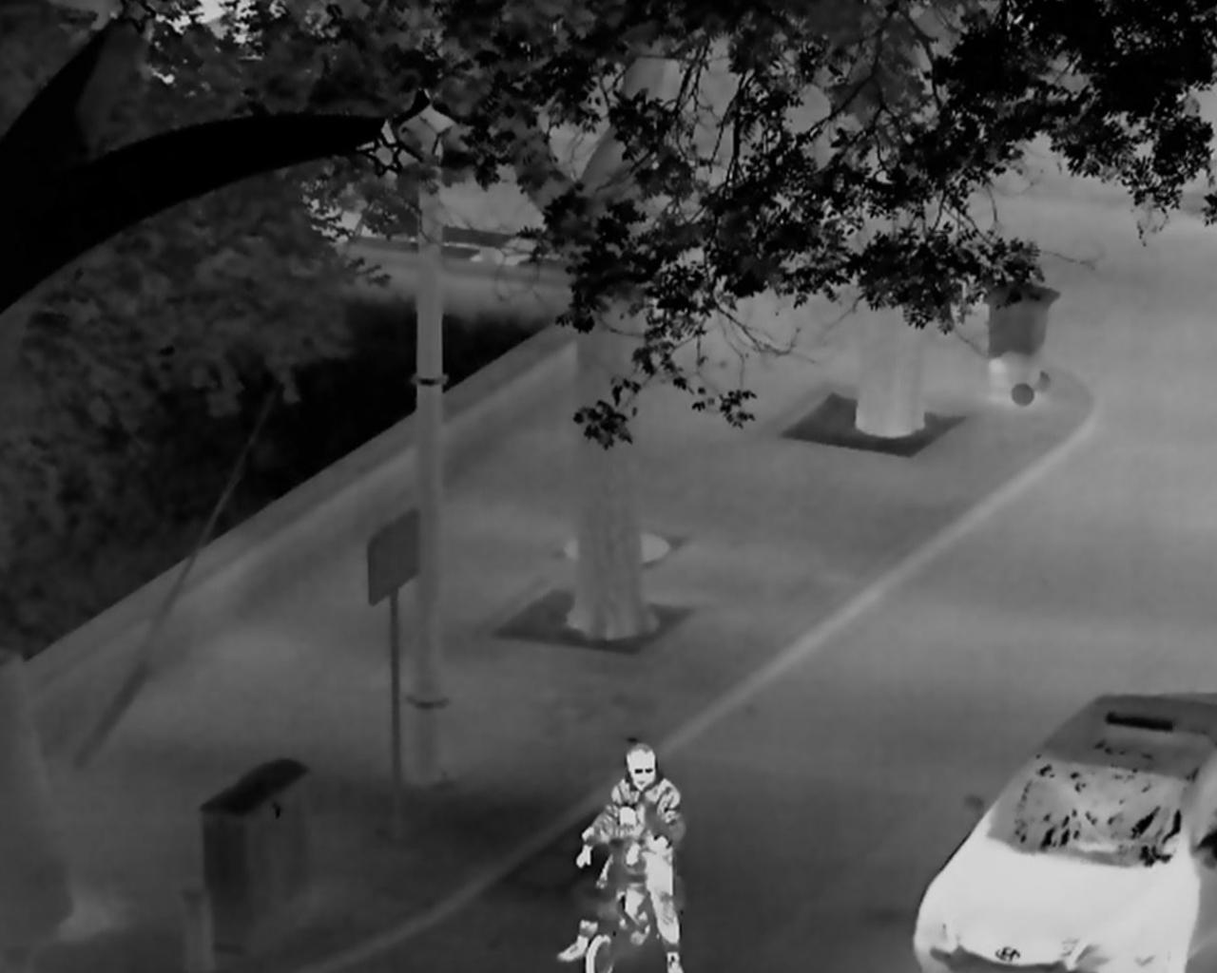person: (556, 741, 689, 973), (576, 801, 655, 947)
